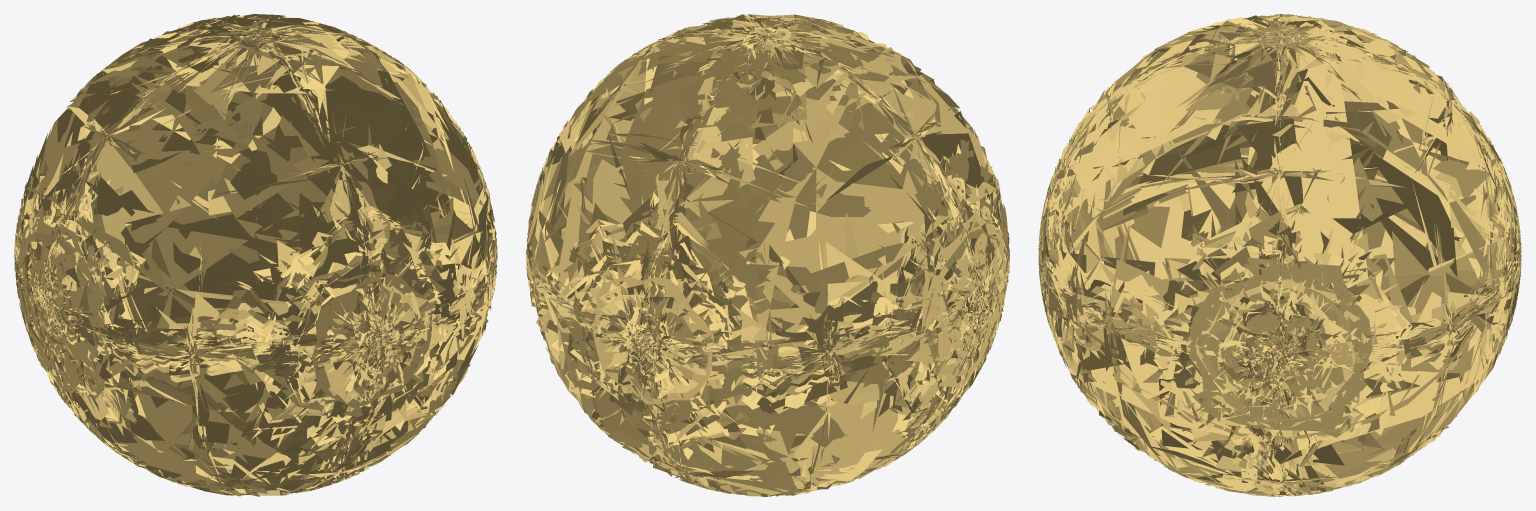
Rendered from sys-sd-electrical.glb.
3 views of the same model, side by side, from view 1: azimuth 30°, elevation 25°; view 2: azimuth 150°, elevation 25°; view 3: azimuth 270°, elevation 25° (orthographic).
Visible parts, largest first — view 1: TS-sd-electrical-1678, TS-sd-electrical-1672, TS-sd-electrical-1674, TS-sd-electrical-1682, TS-sd-electrical-1675, TS-sd-electrical-1679; view 2: TS-sd-electrical-1678, TS-sd-electrical-1672, TS-sd-electrical-1674, TS-sd-electrical-1682, TS-sd-electrical-1675, TS-sd-electrical-1679; view 3: TS-sd-electrical-1674, TS-sd-electrical-1678, TS-sd-electrical-1672, TS-sd-electrical-1682, TS-sd-electrical-1675, TS-sd-electrical-1679, TS-sd-electrical-1673.
Part boxes in pixels (box(x1,y1,x2,y2)): TS-sd-electrical-1678: box(15, 15, 496, 495); TS-sd-electrical-1672: box(14, 15, 497, 495); TS-sd-electrical-1674: box(14, 14, 497, 496); TS-sd-electrical-1682: box(14, 17, 494, 493); TS-sd-electrical-1675: box(14, 15, 497, 496); TS-sd-electrical-1679: box(16, 21, 491, 486); TS-sd-electrical-1678: box(526, 18, 1009, 496); TS-sd-electrical-1672: box(526, 16, 1009, 493); TS-sd-electrical-1674: box(526, 14, 1009, 496); TS-sd-electrical-1682: box(530, 21, 1006, 489); TS-sd-electrical-1675: box(526, 15, 1009, 494); TS-sd-electrical-1679: box(535, 18, 1009, 489); TS-sd-electrical-1674: box(1038, 14, 1521, 496); TS-sd-electrical-1678: box(1039, 15, 1517, 496); TS-sd-electrical-1672: box(1038, 14, 1521, 496); TS-sd-electrical-1682: box(1039, 14, 1521, 494); TS-sd-electrical-1675: box(1038, 14, 1520, 496); TS-sd-electrical-1679: box(1038, 15, 1520, 494); TS-sd-electrical-1673: box(1041, 27, 1519, 364).
Bounding box in the file's own units: 2 × 2 × 2.
